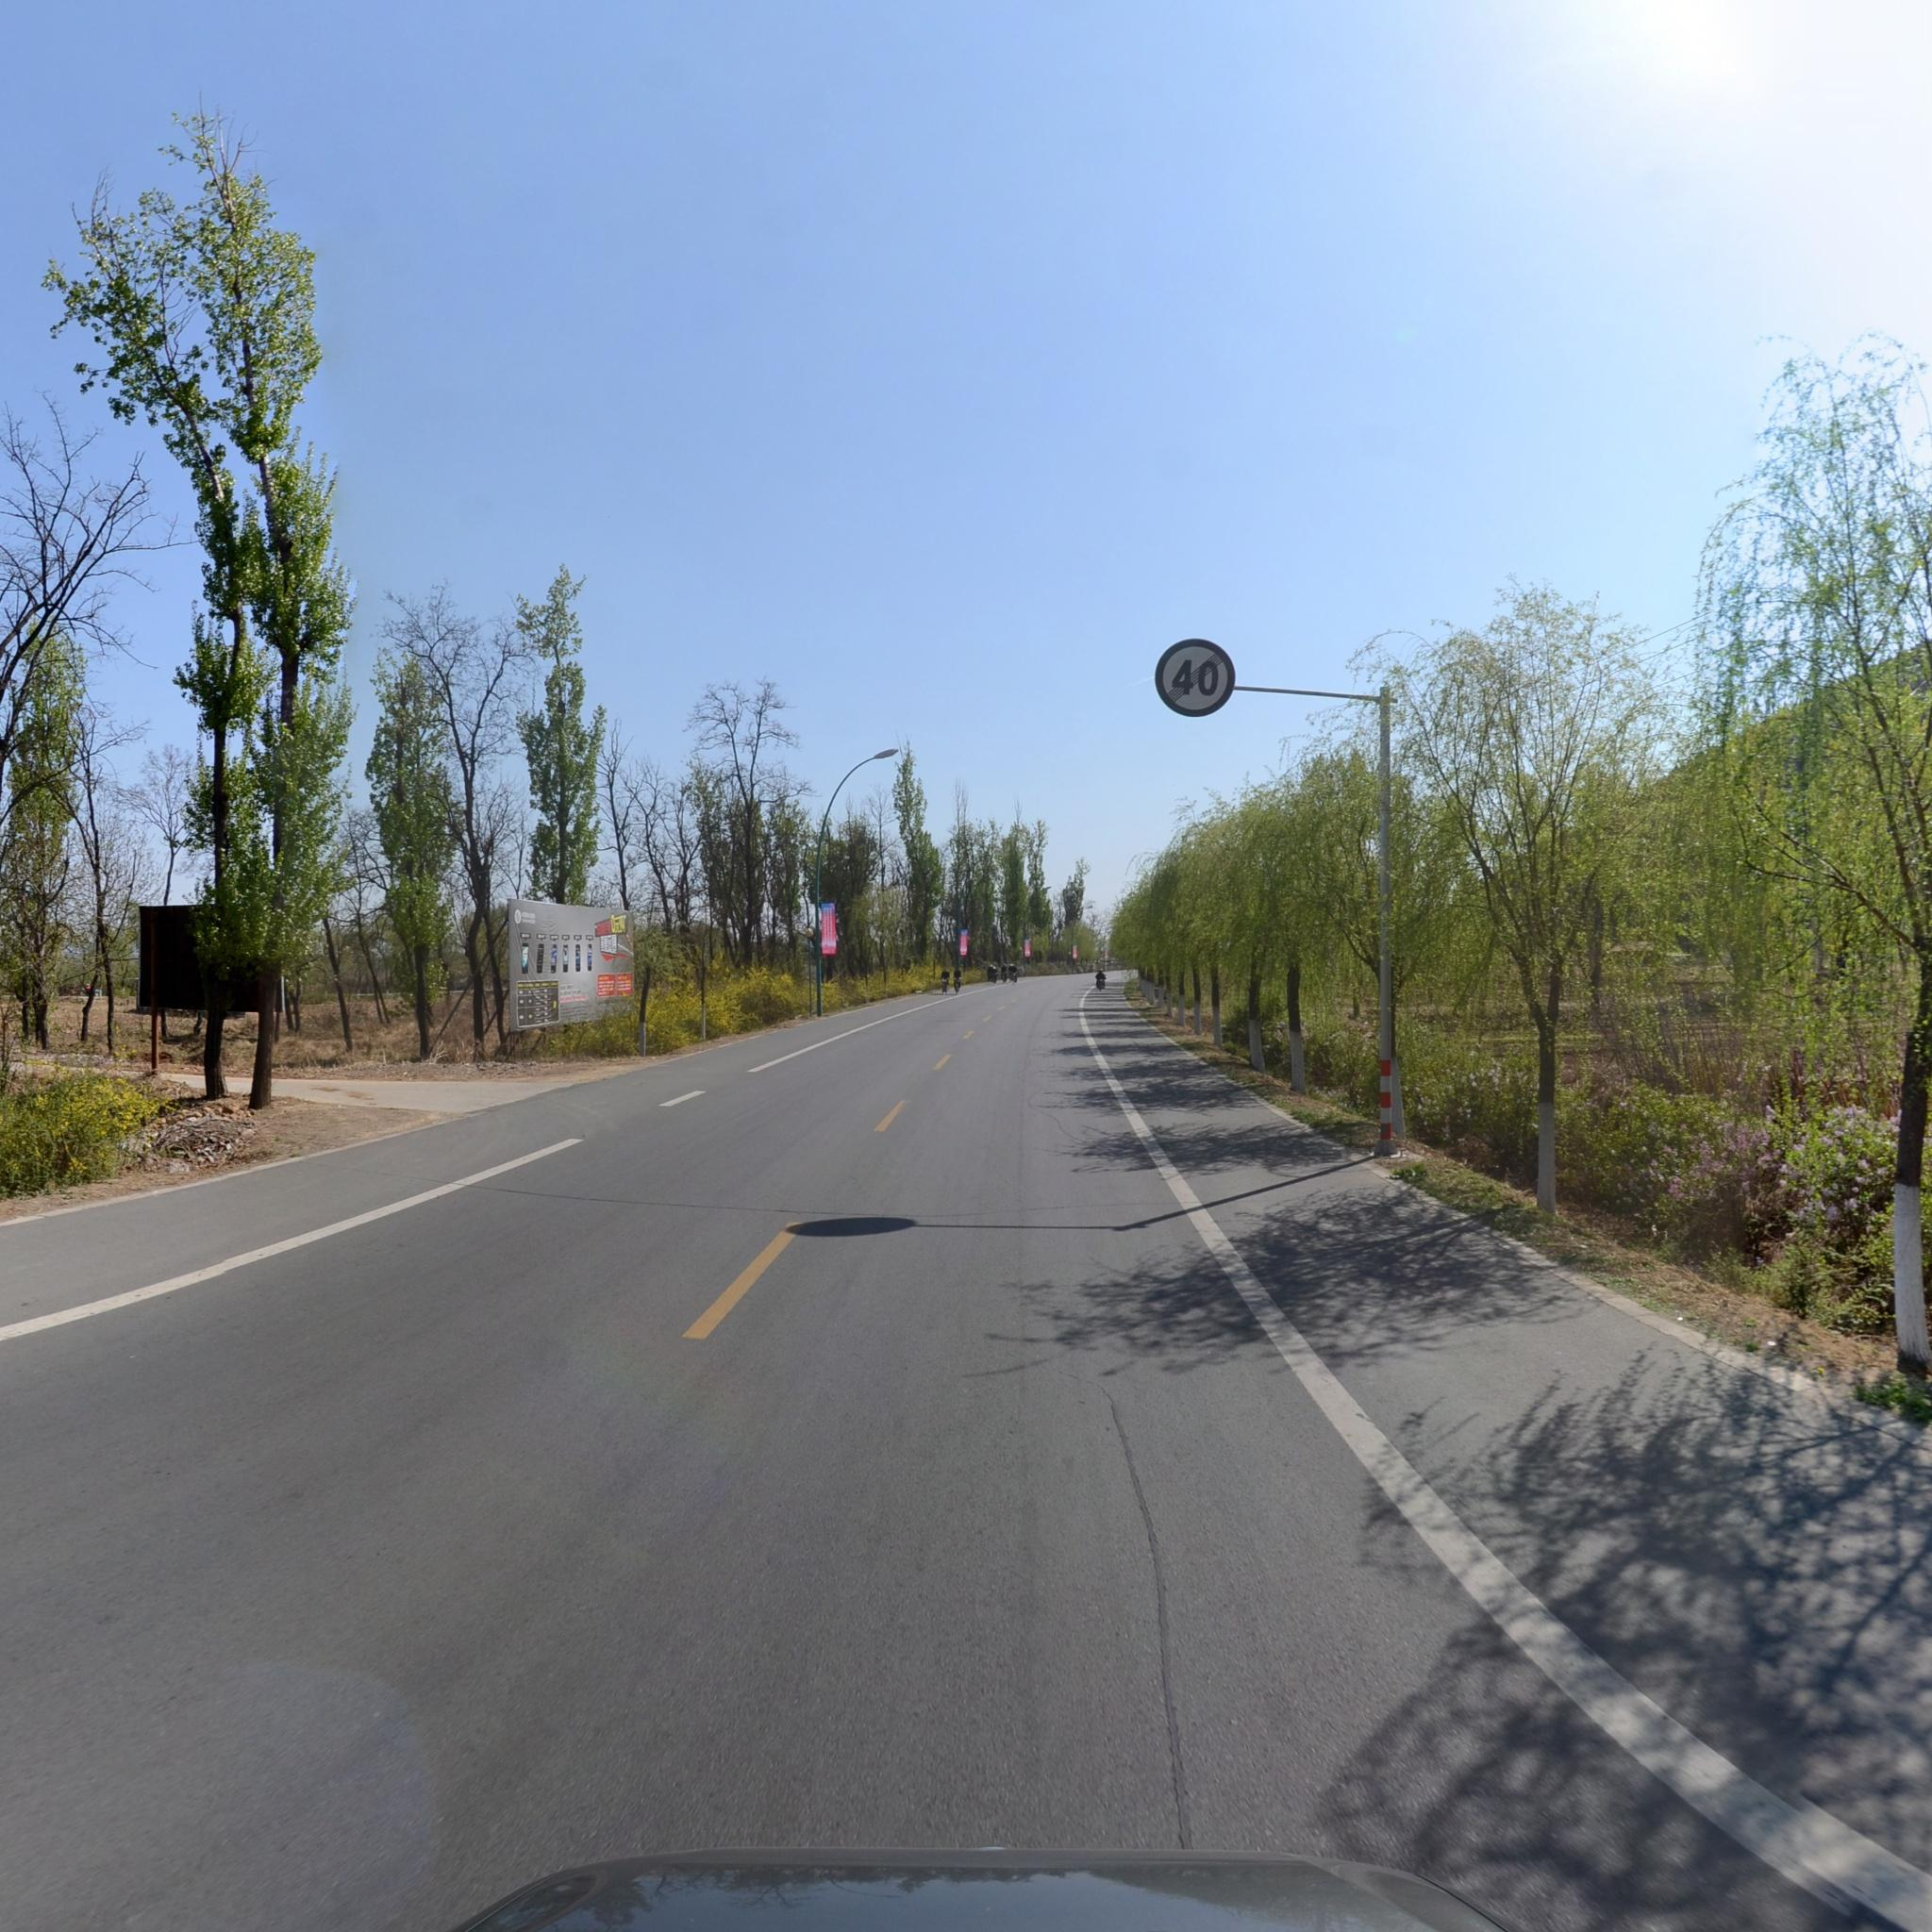pr40: (1162, 644, 1238, 713)
